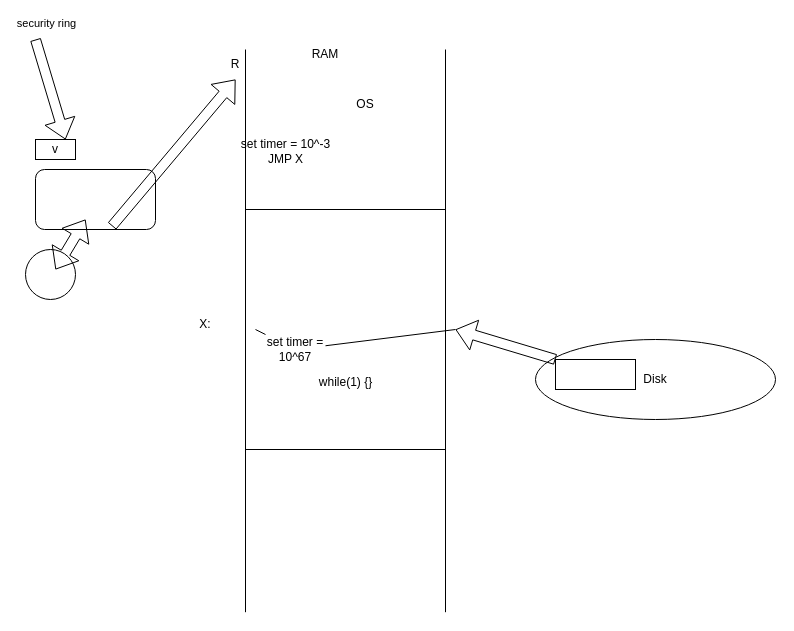
The diagram is 794 pixels wide and 631 high, and some of its shapes have lost their labels. The box of each missing label's shape, as (x1, y1, x2, y2) in pixels:
app: (554, 358, 636, 390)
CPU: (34, 168, 156, 230)
